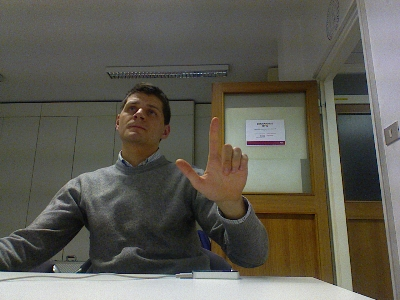枪: (175, 117, 249, 202)
